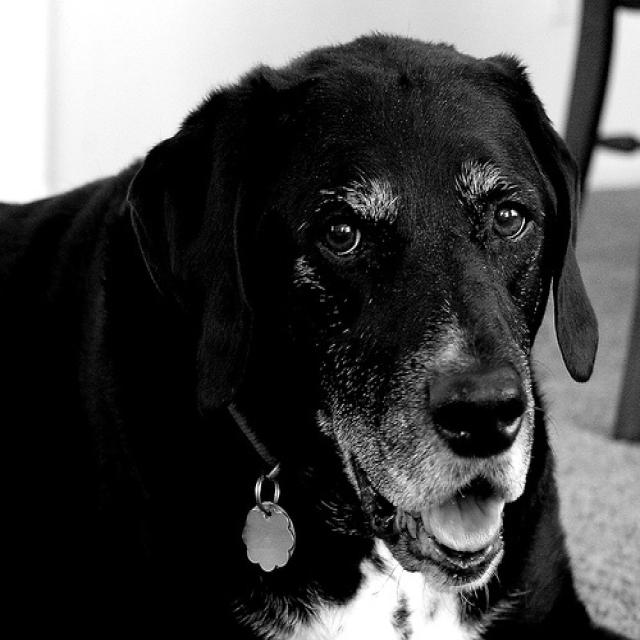dog: (0, 35, 599, 639)
